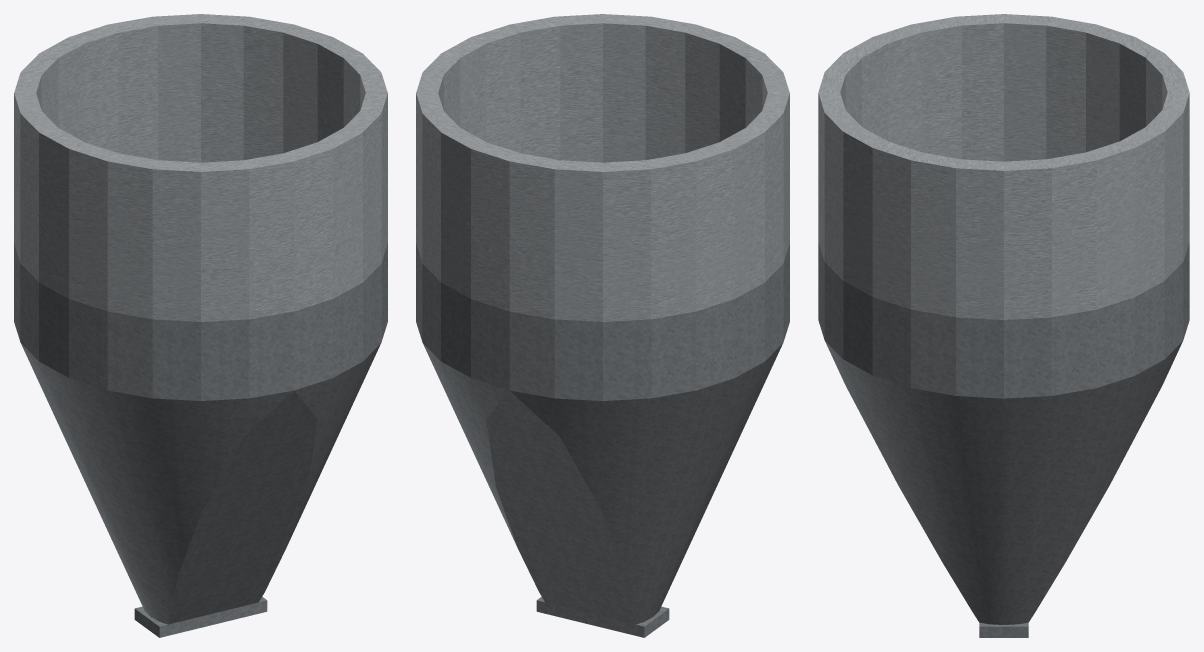
File: 储料桶.glb
3 views of the same model, side by side, from view 1: azimuth 30°, elevation 25°; view 2: azimuth 150°, elevation 25°; view 3: azimuth 270°, elevation 25° (orthographic).
Bounding box in the file's own units: 1.6 × 2.47 × 1.6.
2 materials, 2 textured.
